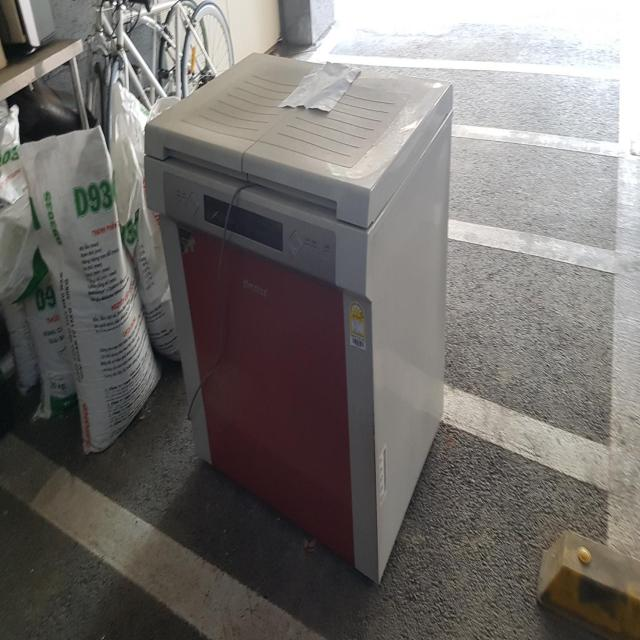refrigerator: (144, 43, 453, 586)
